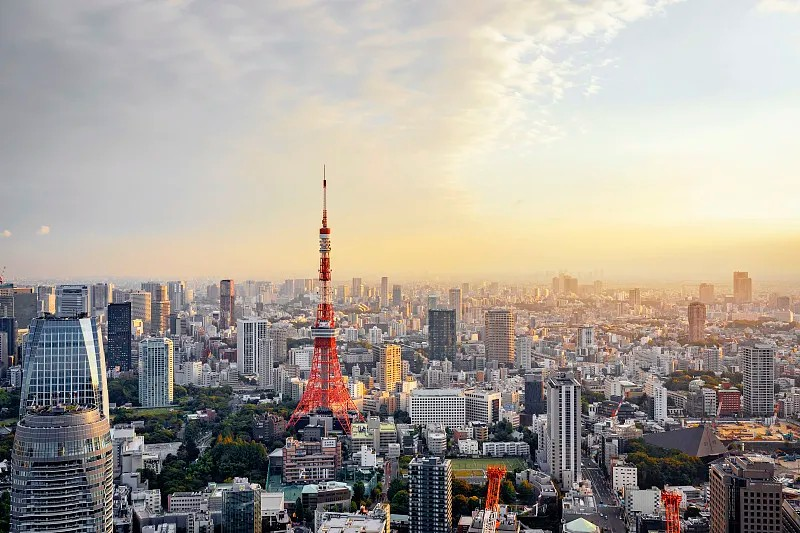Tokyo: (282, 159, 367, 438)
